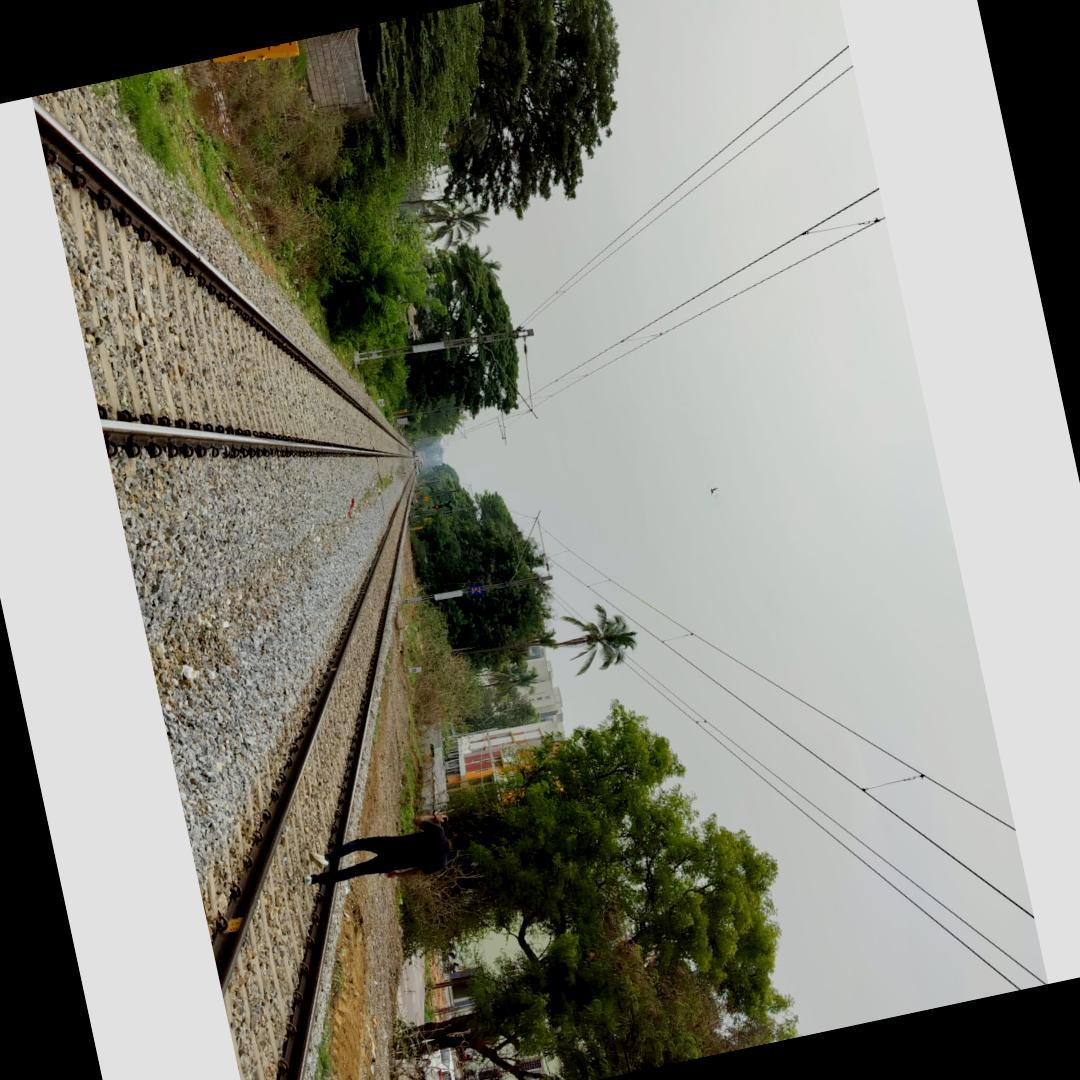standing: (295, 809, 472, 890)
track: (32, 95, 417, 465), (205, 455, 420, 1080)
